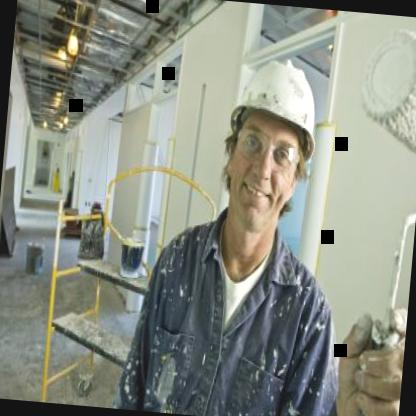helmet: (206, 26, 332, 276)
